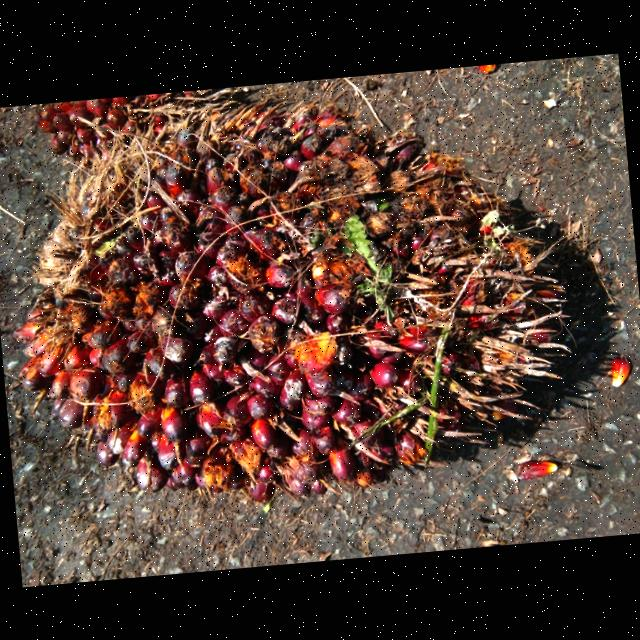Ripe: (13, 90, 570, 501)
